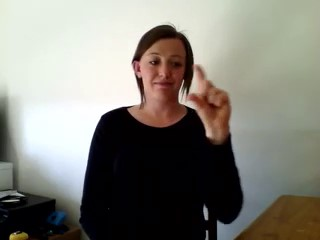C: (183, 61, 237, 141)
